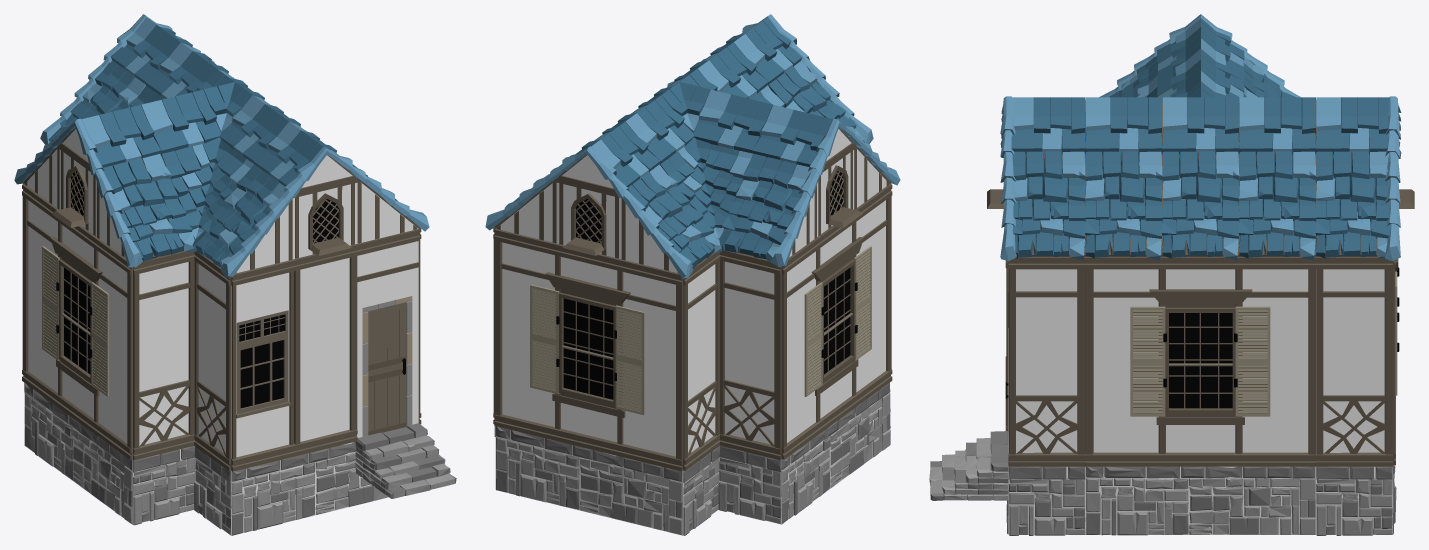
The model's file is house_05_full.fbx.
The picture shows the model from 3 angles, left to right: view 1: azimuth 30°, elevation 25°; view 2: azimuth 150°, elevation 25°; view 3: azimuth 270°, elevation 25°; orthographic projection. The views are drawn at different scales.
Parts seen in each view (by area): view 1: WINDOW_07_3, WALL_03_3, WINDOW_04_3, WALL_04_4, DOOR_02_2, FOUNDATION_02_10, WALL_04_3, FOUNDATION_02_11, ROOF_base_6, STAIRS_01_6, ROOF_inner_corner_3, ROOF_base_5 (+24 smaller); view 2: WINDOW_07_4, WINDOW_07_3, WALL_04_5, FOUNDATION_02_12, WALL_04_6, FOUNDATION_02_11, ROOF_base_11, ROOF_inner_corner_4, ROOF_base_10, FOUNDATION_03_8, ROOF_triangle_window_grid_8, ROOF_base_small_16 (+20 smaller); view 3: WINDOW_07_5, WALL_04_8, WALL_04_7, FOUNDATION_02_13, ROOF_base_7, ROOF_base_4, ROOF_base_8, ROOF_base_9, ROOF_base_3, FOUNDATION_03_11, FOUNDATION_03_10, STAIRS_01_6 (+16 smaller).
Boxes of the visible parts, <box> form: WINDOW_07_3: <box>22,184,132,459</box>; WALL_03_3: <box>294,244,357,456</box>; WINDOW_04_3: <box>231,259,295,471</box>; WALL_04_4: <box>133,251,194,460</box>; DOOR_02_2: <box>356,229,420,437</box>; FOUNDATION_02_10: <box>231,442,388,535</box>; WALL_04_3: <box>194,251,231,470</box>; FOUNDATION_02_11: <box>24,383,133,524</box>; ROOF_base_6: <box>103,154,195,262</box>; STAIRS_01_6: <box>355,423,456,498</box>; ROOF_inner_corner_3: <box>161,137,253,239</box>; ROOF_base_5: <box>192,164,286,268</box>; WINDOW_07_4: <box>494,229,682,471</box>; WINDOW_07_3: <box>781,184,892,459</box>; WALL_04_5: <box>719,250,781,459</box>; FOUNDATION_02_12: <box>495,426,683,535</box>; WALL_04_6: <box>683,252,720,470</box>; FOUNDATION_02_11: <box>781,383,890,523</box>; ROOF_base_11: <box>719,153,811,264</box>; ROOF_inner_corner_4: <box>660,137,752,239</box>; ROOF_base_10: <box>628,164,721,268</box>; FOUNDATION_03_8: <box>718,445,782,524</box>; ROOF_triangle_window_grid_8: <box>558,183,620,258</box>; ROOF_base_small_16: <box>693,89,772,153</box>; WINDOW_07_5: <box>1085,256,1315,466</box>; WALL_04_8: <box>1008,256,1085,466</box>; WALL_04_7: <box>1316,256,1392,466</box>; FOUNDATION_02_13: <box>1085,466,1315,535</box>; ROOF_base_7: <box>1161,151,1239,260</box>; ROOF_base_4: <box>1084,150,1162,260</box>; ROOF_base_8: <box>1238,151,1316,260</box>; ROOF_base_9: <box>1315,151,1390,259</box>; ROOF_base_3: <box>1008,151,1085,260</box>; FOUNDATION_03_11: <box>1008,466,1085,535</box>; FOUNDATION_03_10: <box>1316,466,1392,535</box>; STAIRS_01_6: <box>929,431,1008,500</box>.
Size of the model in its own units: 439 by 560 by 631.
